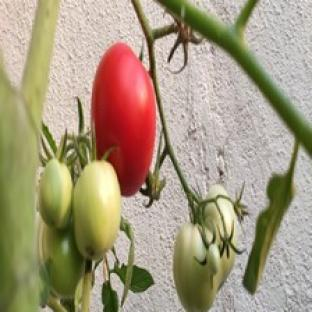Tomato: (91, 42, 155, 196), (73, 161, 121, 260), (173, 223, 218, 311), (39, 222, 84, 298), (38, 159, 72, 228), (204, 184, 236, 247), (207, 244, 221, 275)
